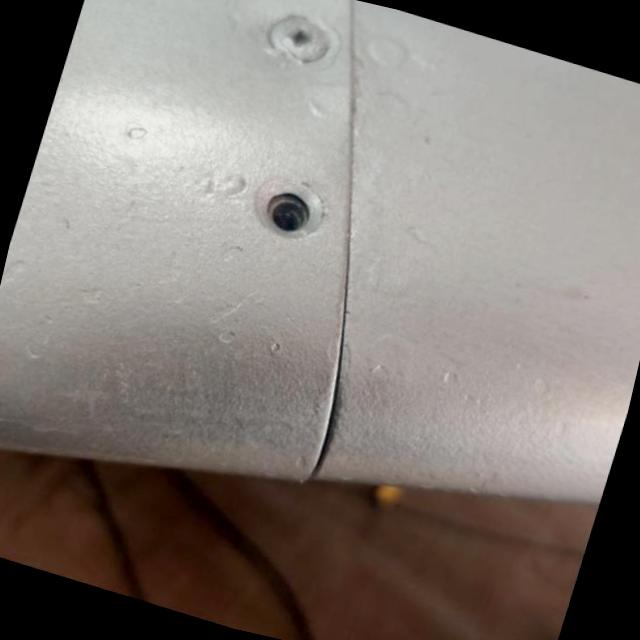Missing Fastener: (248, 172, 328, 242)
